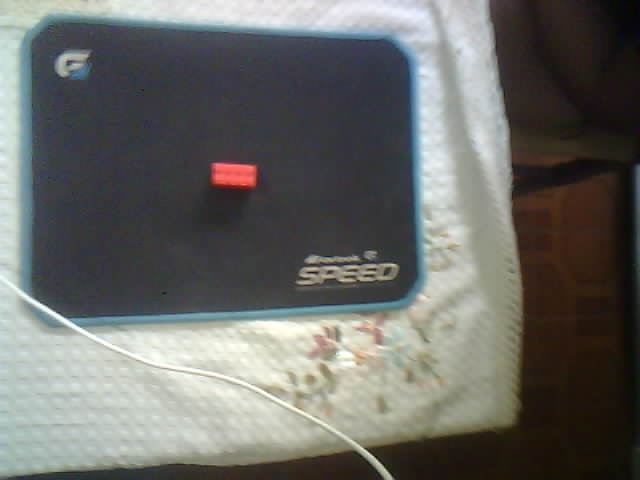lego: (207, 161, 258, 191)
